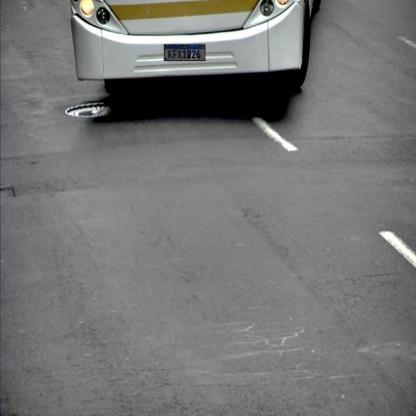PlacaM: (164, 44, 205, 61)
